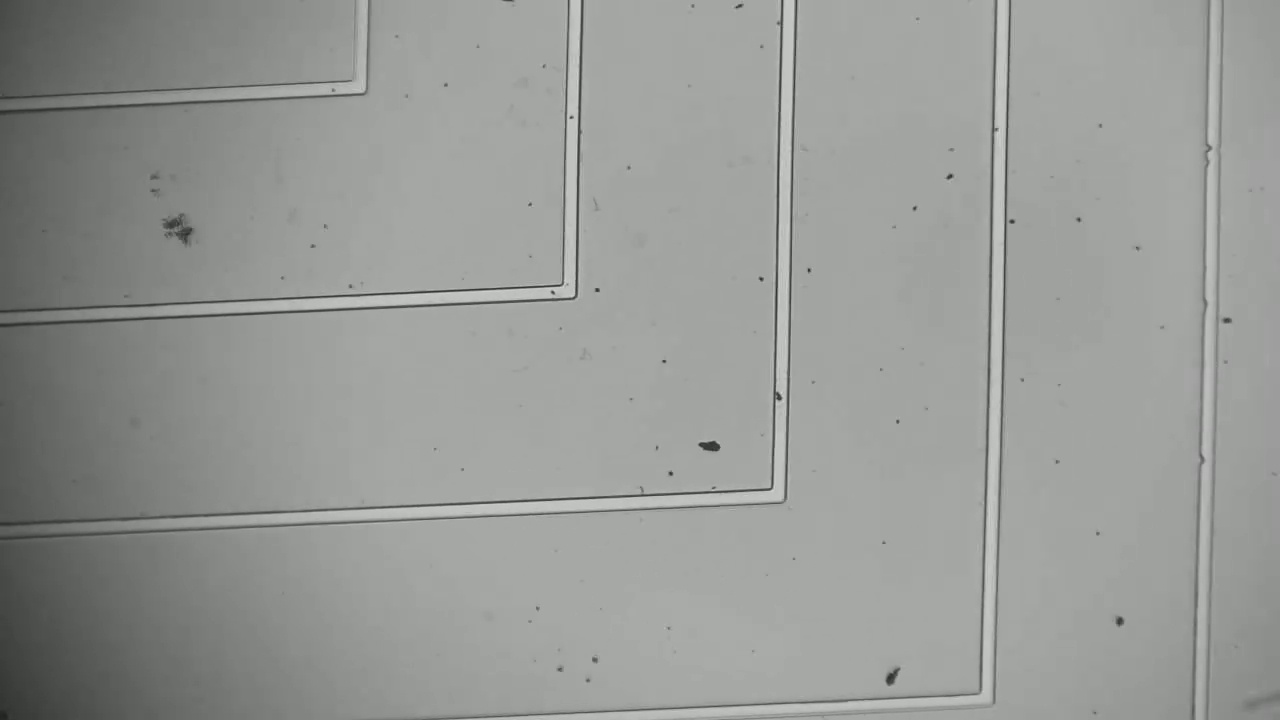edge_bite: (1195, 137, 1228, 177), (1191, 450, 1219, 474)
stains_enbedded: (768, 385, 796, 412)
